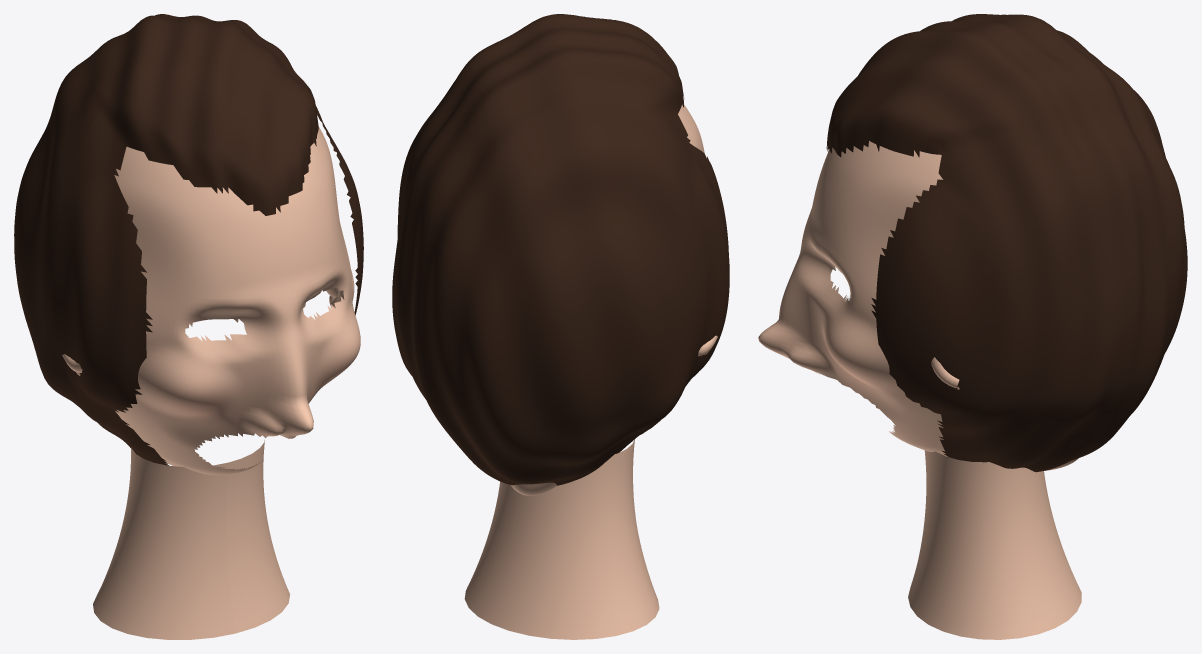
The model's file is head-female.glb.
3 renders of one model, left to right at view 1: azimuth 30°, elevation 25°; view 2: azimuth 150°, elevation 25°; view 3: azimuth 270°, elevation 25°, orthographic.
Parts seen in each view (by area): view 1: hair-cap, head, neck-skin; view 2: hair-cap, neck-skin, head; view 3: hair-cap, head, neck-skin.
Boxes of the visible parts, x1,y1,x2,y2 form: hair-cap: (14, 14, 363, 465); head: (114, 126, 360, 475); neck-skin: (93, 438, 289, 639); hair-cap: (392, 14, 729, 485); neck-skin: (464, 439, 659, 639); head: (511, 104, 704, 495); hair-cap: (826, 14, 1187, 472); head: (758, 141, 1078, 470); neck-skin: (908, 450, 1081, 639).
Bounding box in the file's own units: 13.74 × 26.54 × 18.01.
